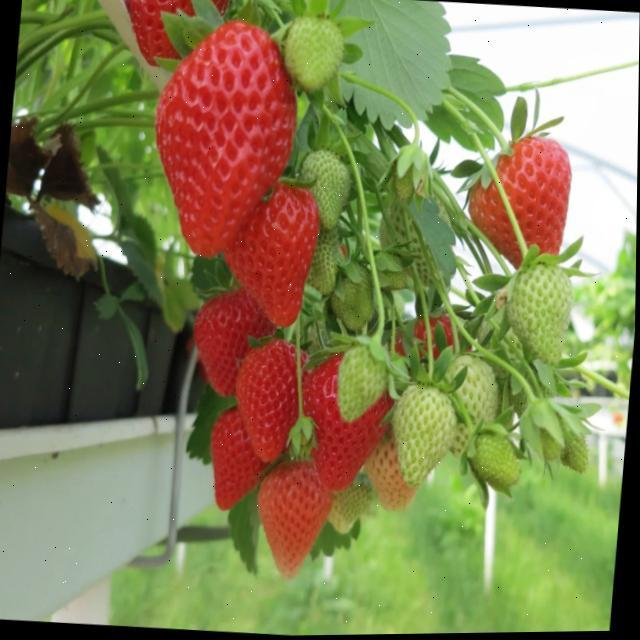ripe: (142, 12, 306, 258), (456, 130, 580, 265), (290, 348, 396, 488), (222, 182, 323, 328), (223, 334, 317, 470), (257, 462, 337, 586), (184, 296, 266, 399), (114, 0, 228, 74), (205, 404, 274, 514)
